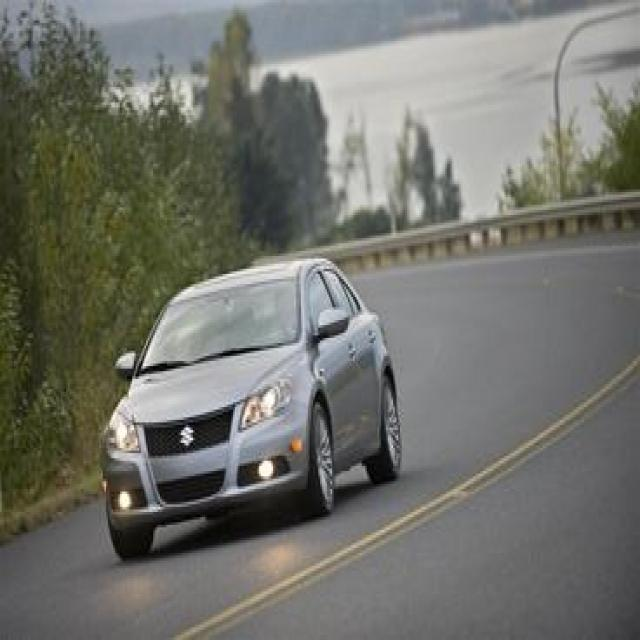Car: (85, 234, 405, 544)
